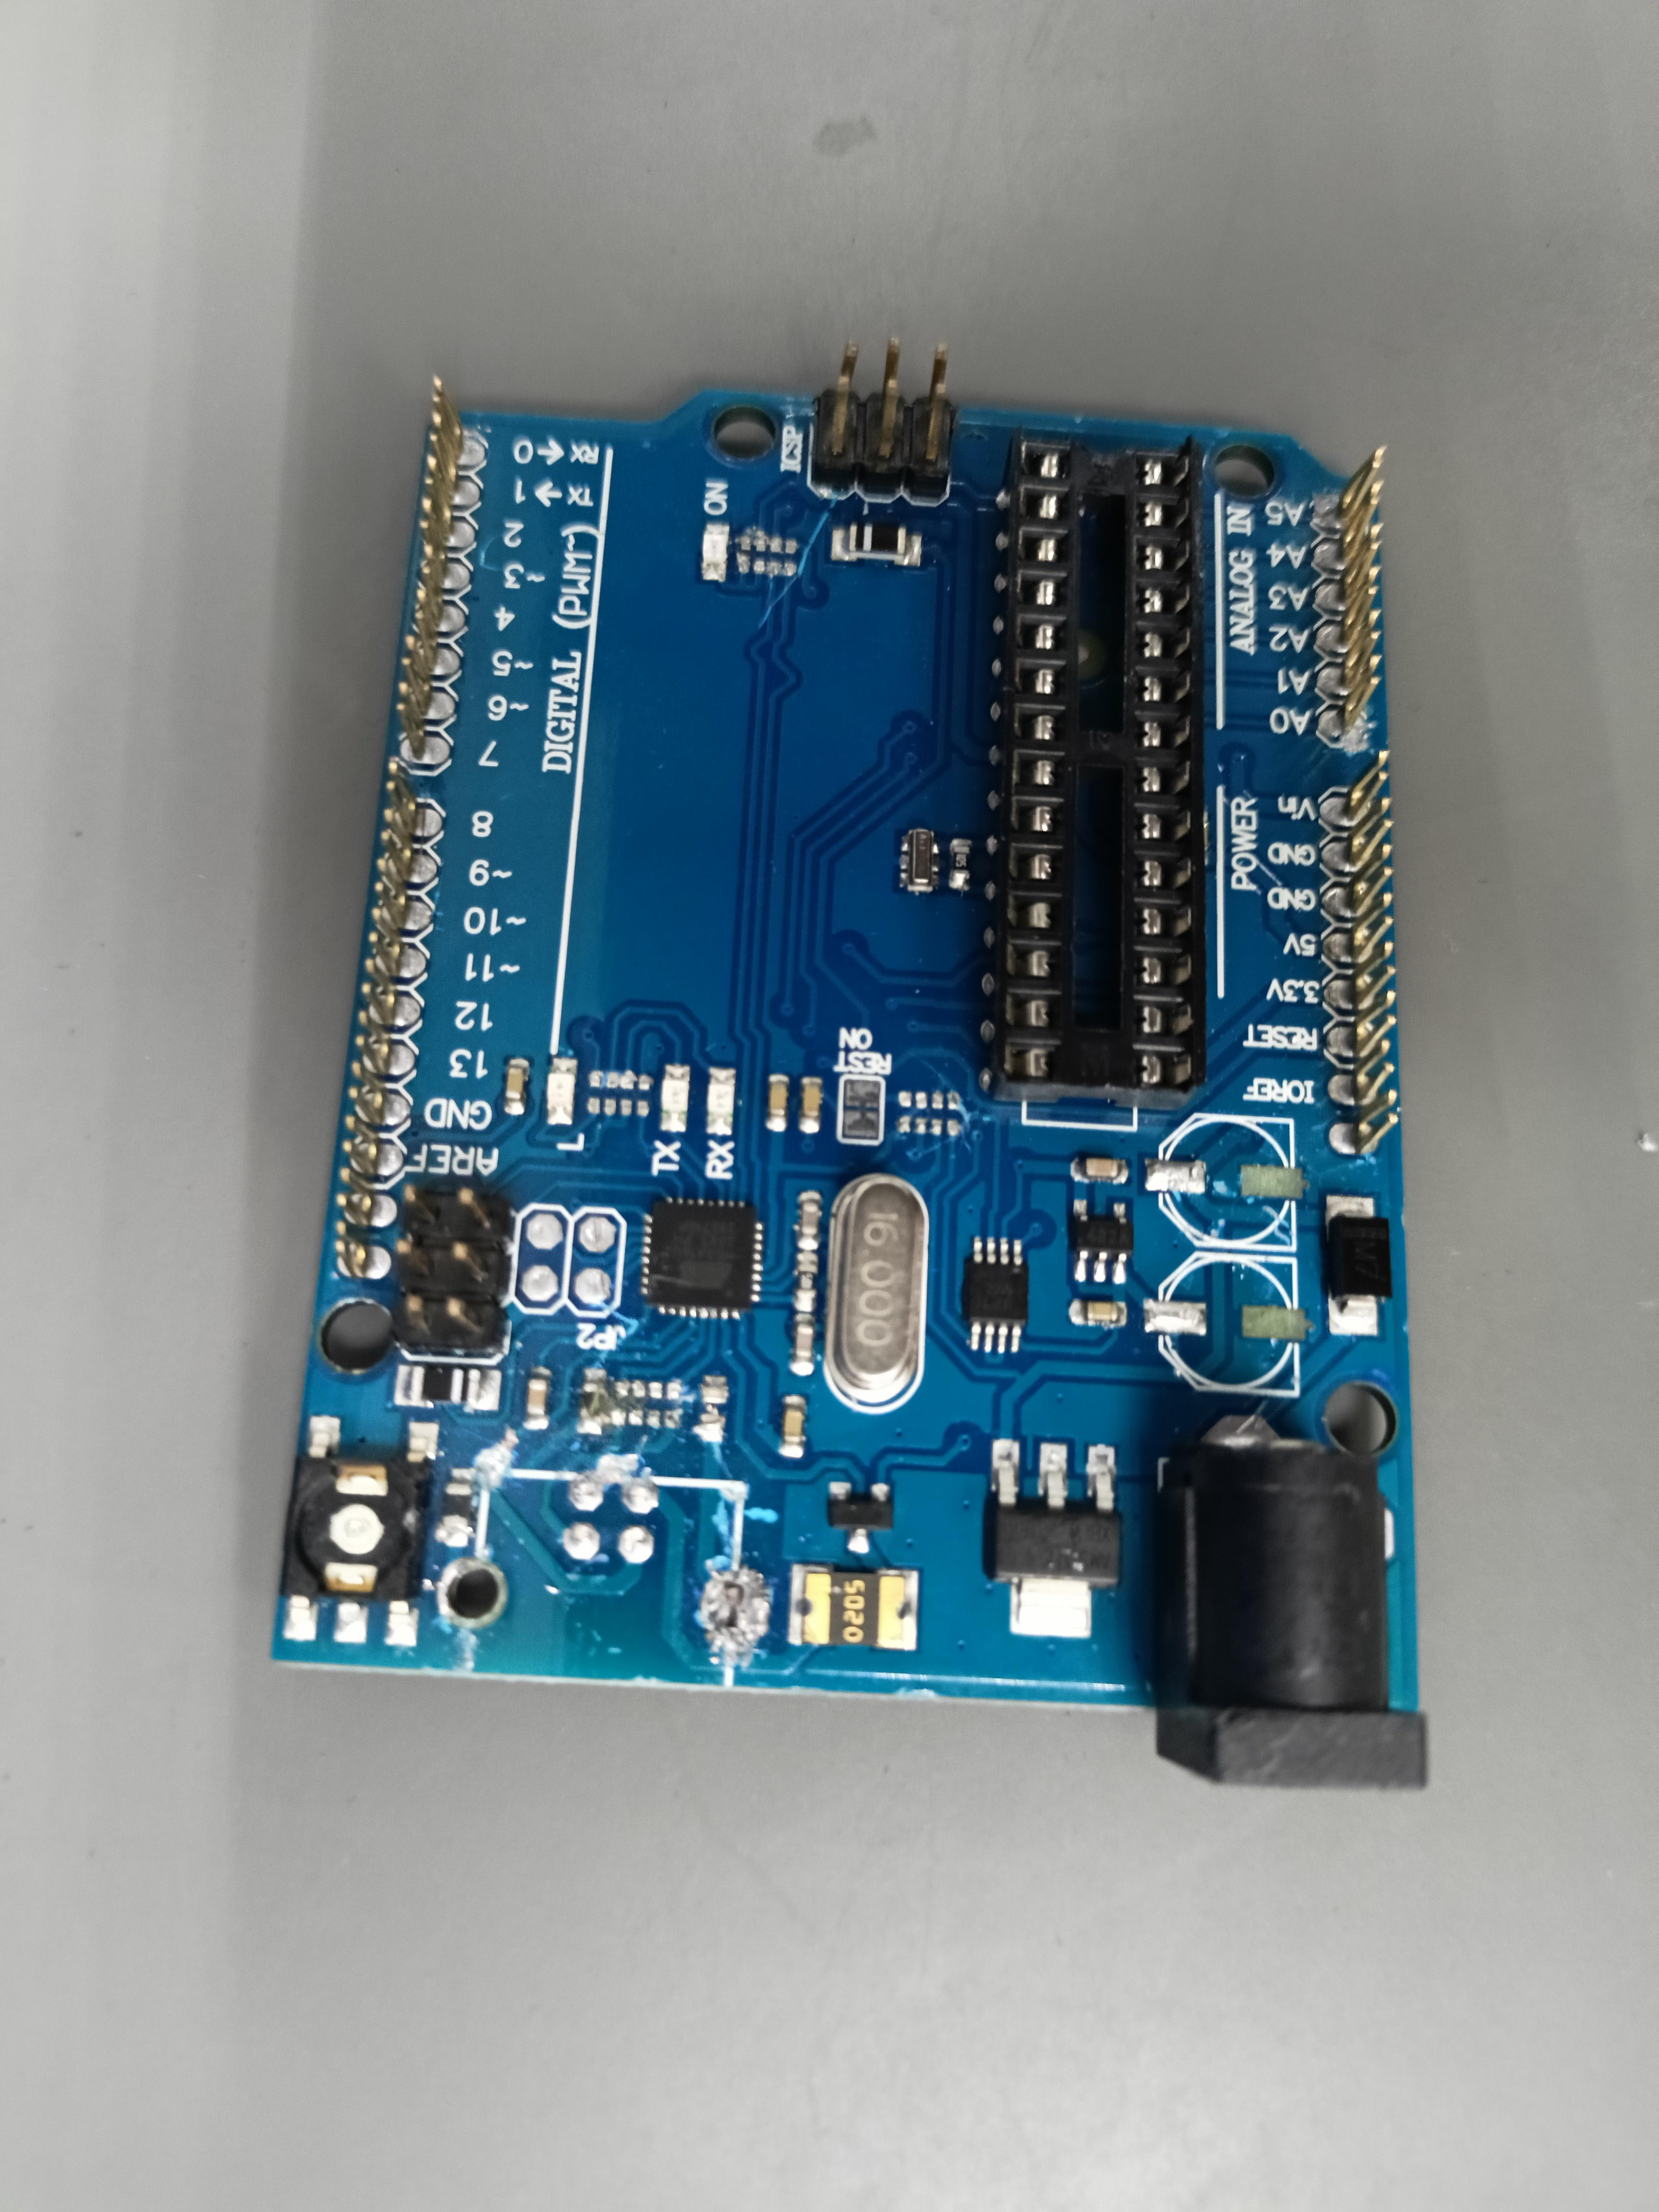Arduino board: (268, 340, 1424, 1792)
